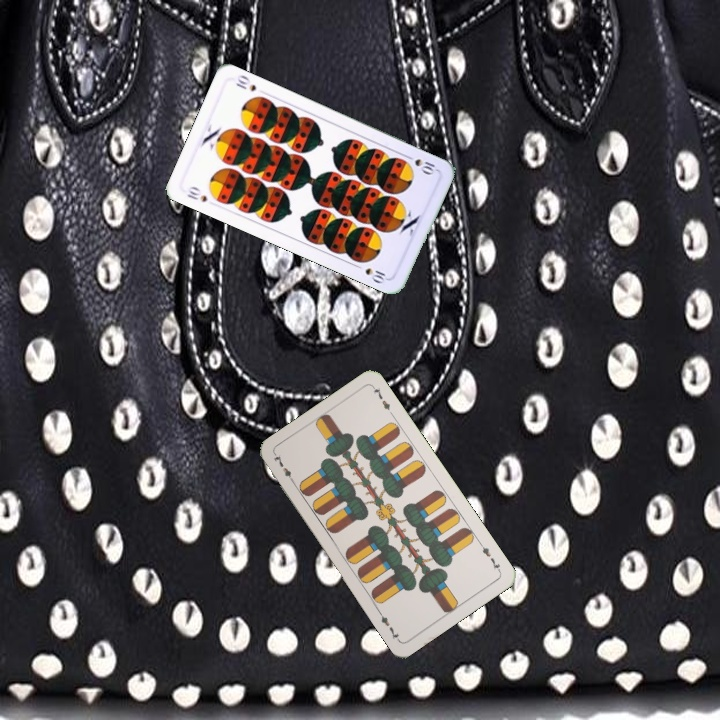E7: (476, 538, 503, 574), (270, 451, 297, 487)
S10: (401, 151, 439, 177), (183, 182, 210, 205)
